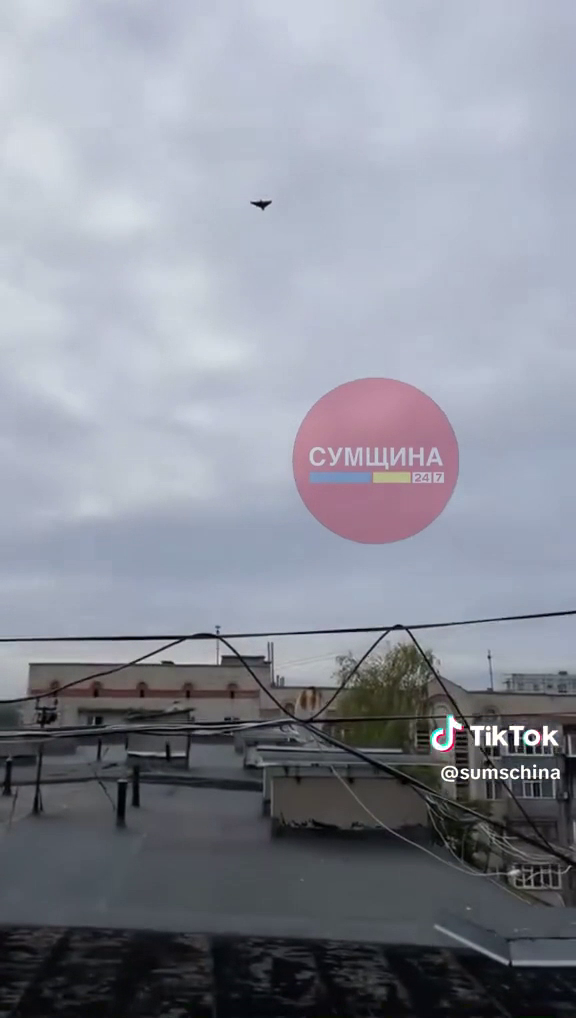shahed: (248, 193, 278, 215)
